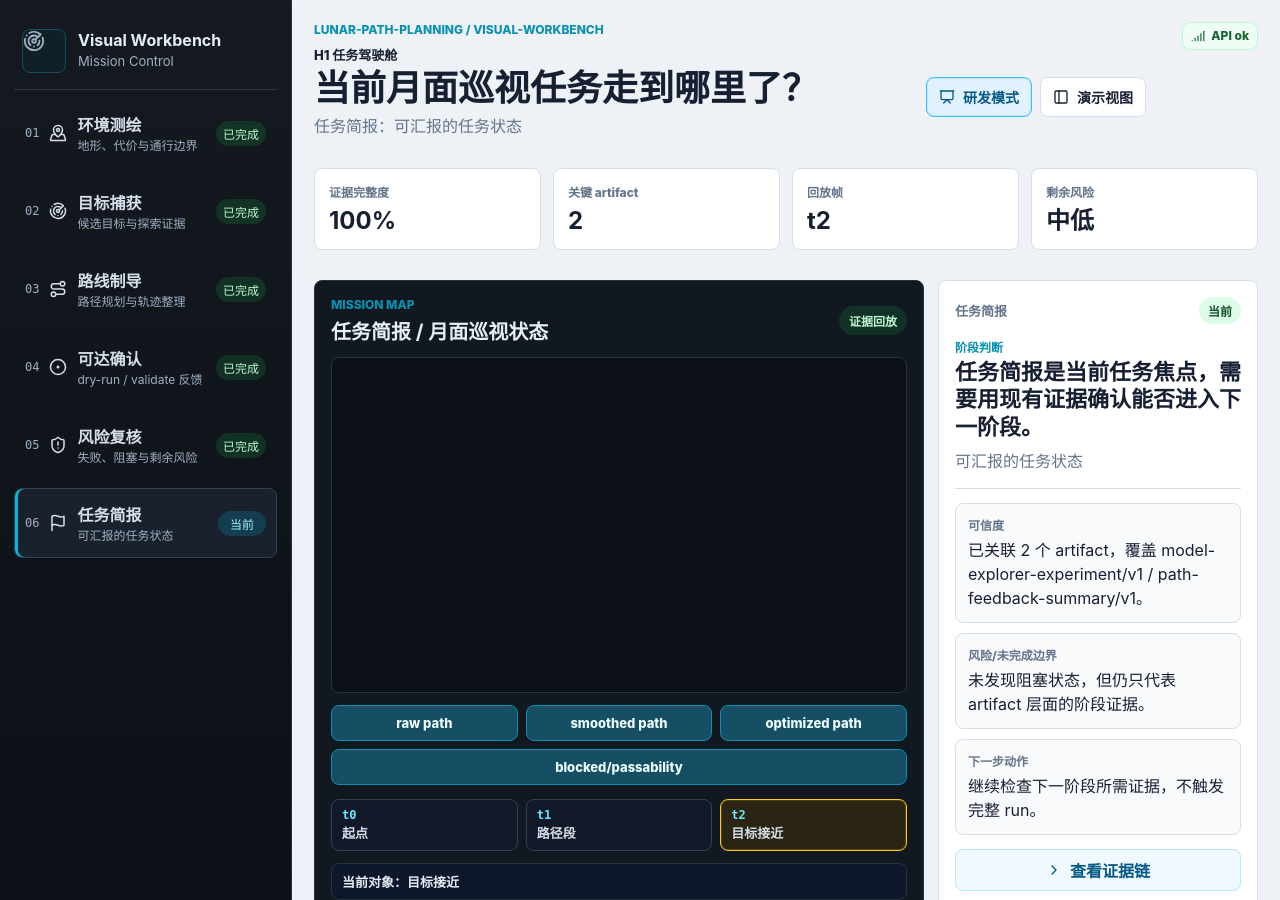
Test: App › evidence chain drawer follows the selected replay object
Step 1. Click the button "t0 起点" → (424, 825), box [331, 799, 518, 851]
(page scrolled)
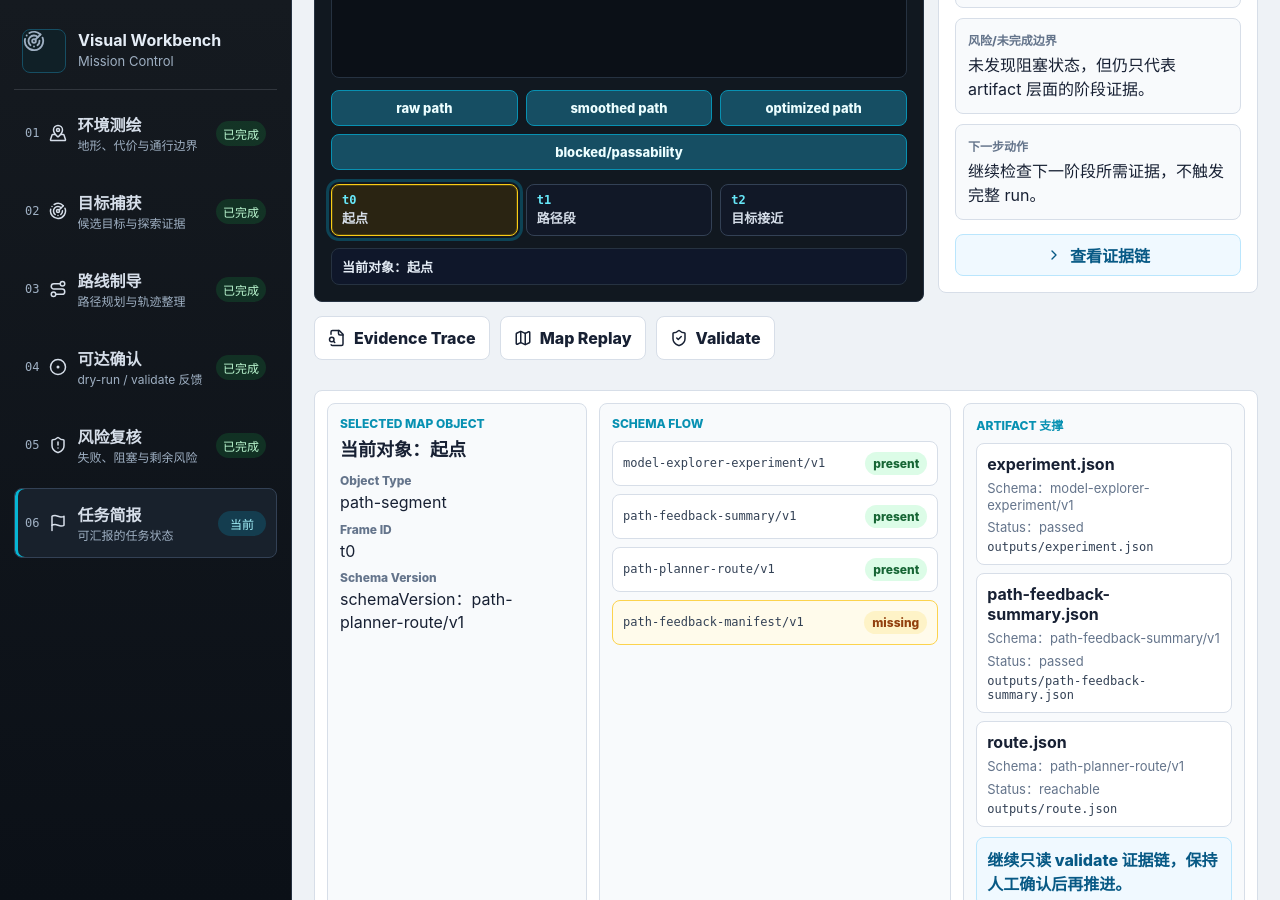
Expected: the heading "当前对象：起点" is shown, [340, 439, 466, 460]
